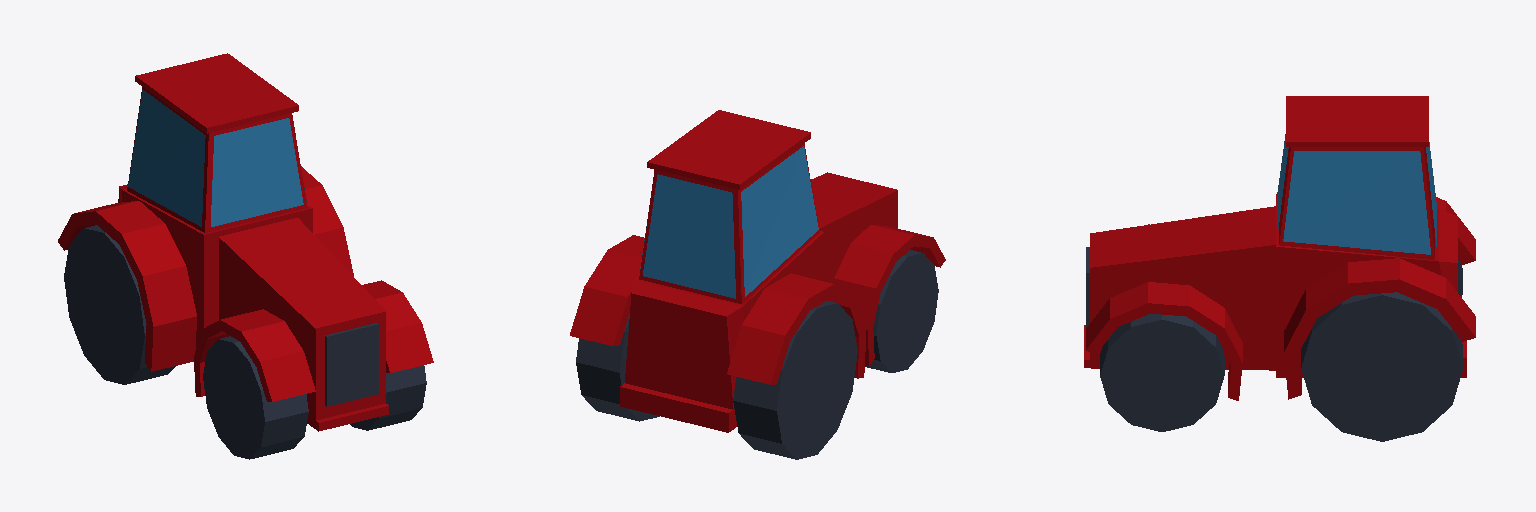
The model's file is Trator.obj.
3 renders of one model, left to right at view 1: azimuth 30°, elevation 25°; view 2: azimuth 150°, elevation 25°; view 3: azimuth 270°, elevation 25°, orthographic.
Parts seen in each view (by area): view 1: Trator; view 2: Trator; view 3: Trator.
Boxes of the visible parts, x1=… form: Trator: x1=58, y1=53, x2=433, y2=459; Trator: x1=570, y1=110, x2=945, y2=459; Trator: x1=1084, y1=96, x2=1475, y2=441.
Bounding box in the file's own units: 54.13 × 70.56 × 91.49.